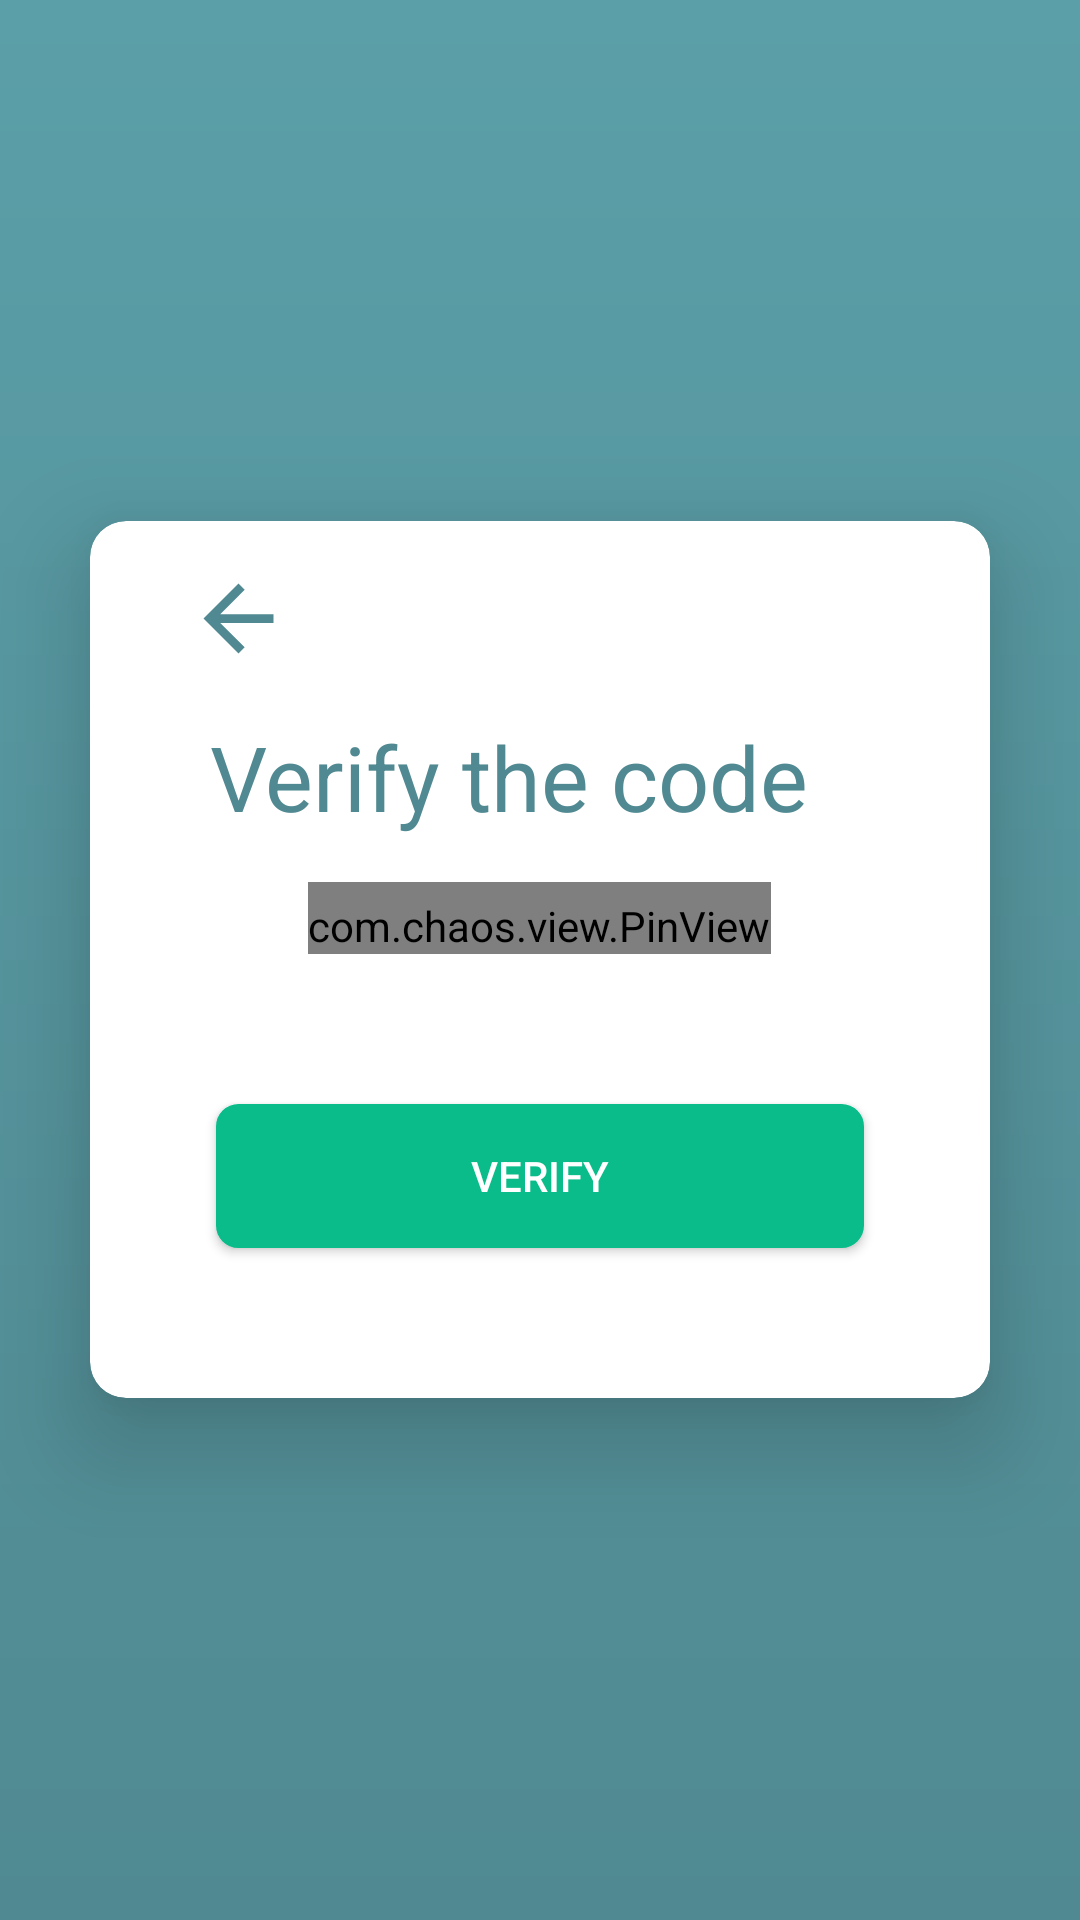

Icons on this 1080px×1920px Android screen, each with the point to tap as point (x, y):
arrow back: point (238, 618)
